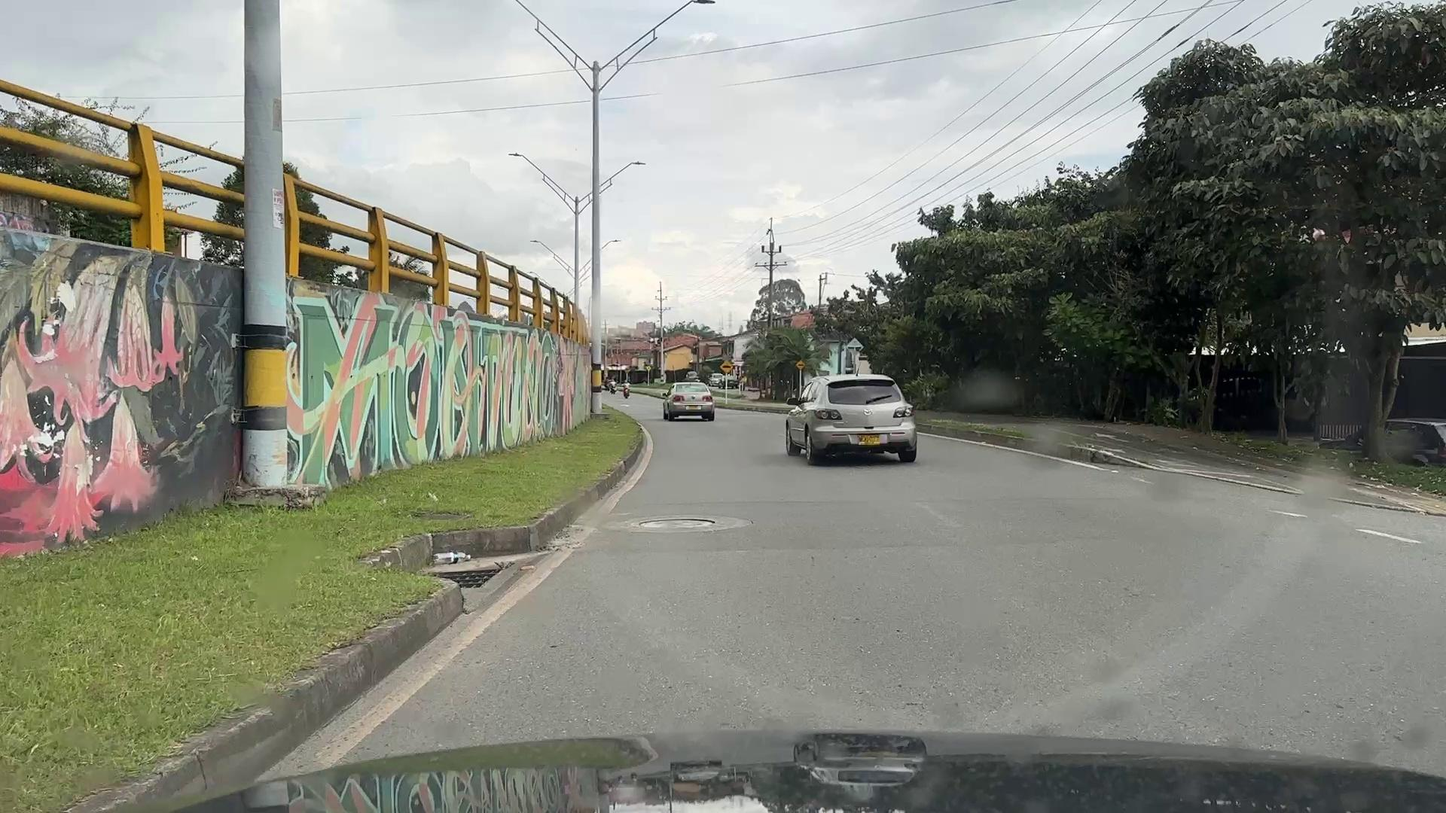registro: (639, 519, 715, 528)
rejilla: (421, 568, 503, 588)
